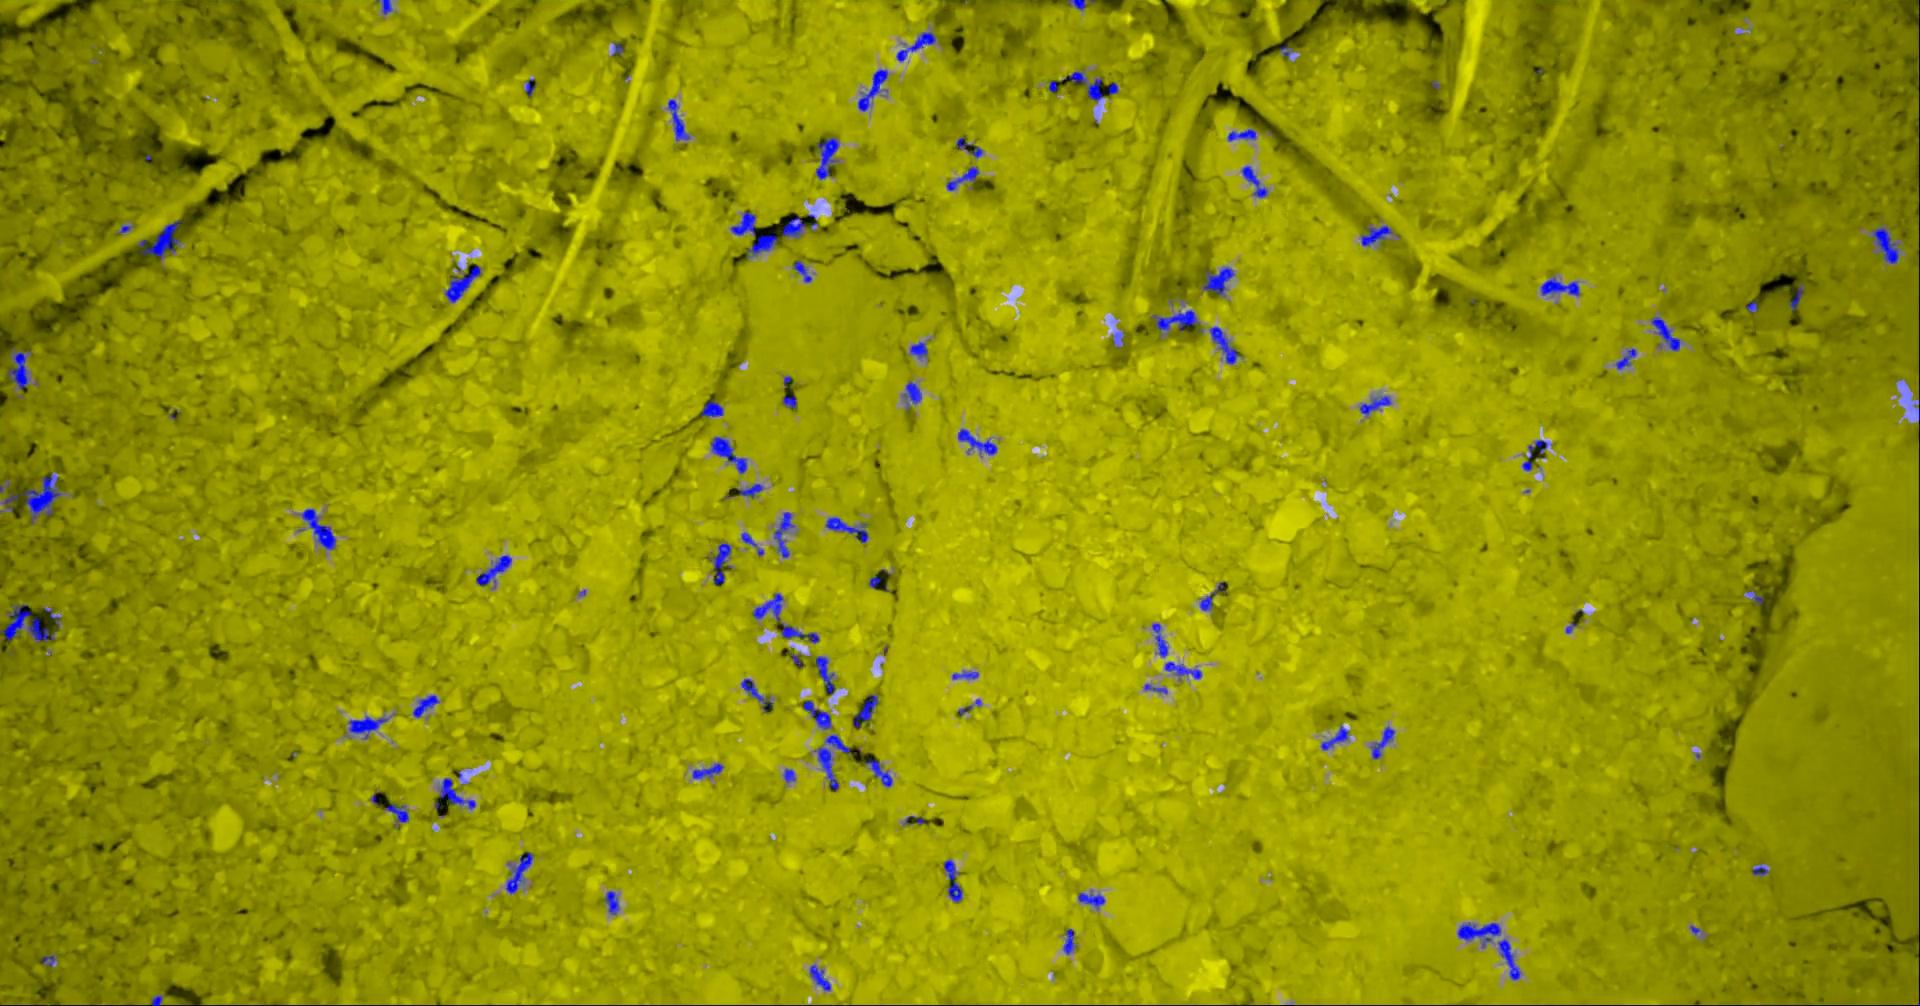ant: (5, 473, 62, 523), (1, 603, 56, 641), (817, 734, 852, 789), (138, 218, 185, 259), (302, 508, 337, 549), (446, 265, 483, 302), (712, 436, 748, 473), (858, 69, 889, 111), (898, 30, 937, 61), (441, 777, 477, 809), (1459, 921, 1502, 948), (507, 852, 535, 893), (742, 678, 775, 713), (827, 516, 869, 542), (1065, 71, 1103, 100), (477, 555, 513, 586), (8, 347, 33, 387), (1211, 326, 1239, 363), (775, 511, 796, 558), (817, 137, 841, 179), (1498, 937, 1523, 979), (959, 428, 998, 453), (1156, 309, 1200, 330), (1653, 316, 1681, 351), (1874, 227, 1900, 263), (1204, 267, 1236, 295), (669, 99, 691, 140), (350, 716, 389, 739), (754, 593, 783, 622), (711, 542, 731, 583), (945, 859, 964, 902), (804, 700, 832, 729), (1523, 439, 1549, 470), (1243, 165, 1269, 197), (949, 166, 982, 191), (855, 694, 879, 727), (1371, 727, 1396, 758), (782, 622, 822, 641), (748, 234, 778, 258), (817, 655, 836, 694), (867, 760, 894, 786), (1542, 277, 1581, 295), (1201, 582, 1225, 610), (1322, 725, 1350, 749), (1166, 661, 1203, 678), (1363, 225, 1394, 245), (731, 211, 757, 235), (386, 803, 410, 827), (1361, 395, 1392, 414), (414, 694, 439, 716), (1153, 622, 1170, 655), (957, 137, 984, 158), (811, 964, 832, 989), (743, 532, 764, 555), (783, 216, 808, 236), (1617, 348, 1638, 370), (695, 763, 725, 779), (1079, 892, 1106, 908), (795, 260, 813, 282), (905, 381, 923, 403), (702, 400, 725, 417), (1790, 283, 1804, 310), (739, 483, 764, 497), (606, 890, 620, 915), (1229, 128, 1257, 140), (910, 340, 930, 357), (952, 669, 980, 680), (1065, 929, 1076, 954), (1145, 683, 1170, 694), (1069, 0, 1095, 9), (526, 77, 537, 97), (377, 0, 392, 14), (783, 394, 797, 409), (1752, 862, 1769, 875), (785, 768, 797, 782), (43, 954, 57, 967)
